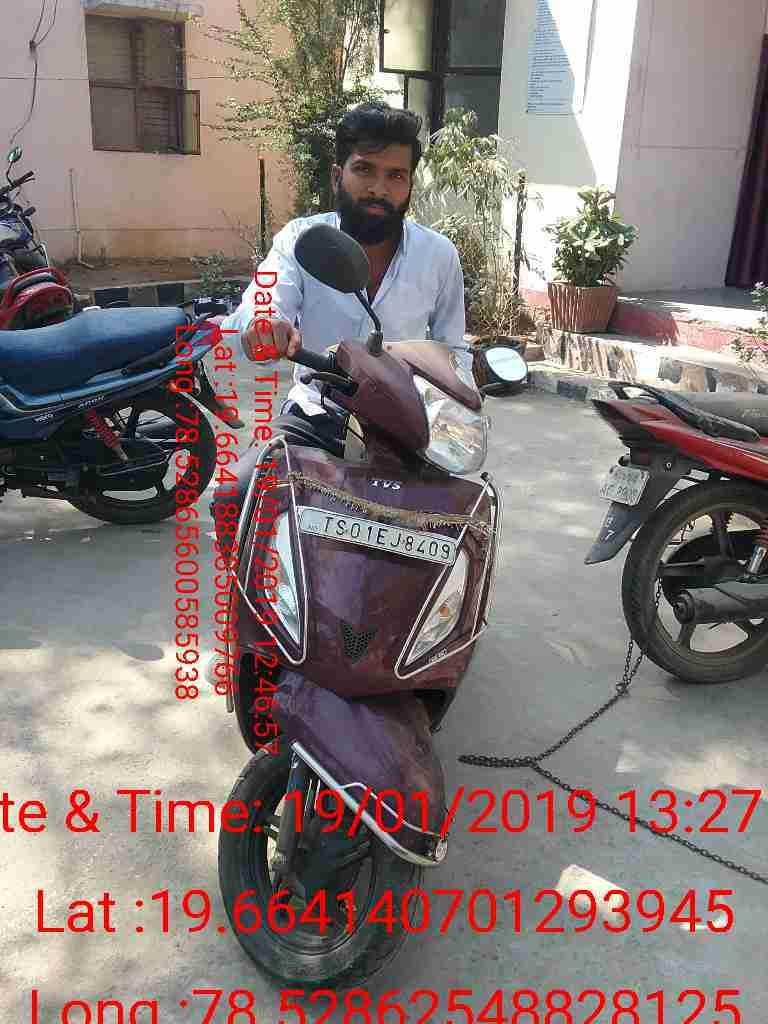plate: (294, 505, 472, 569), (597, 461, 654, 507)
